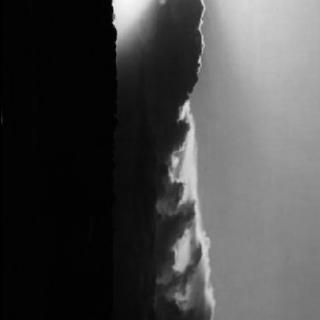Cumulonimbus: (120, 0, 225, 320)
